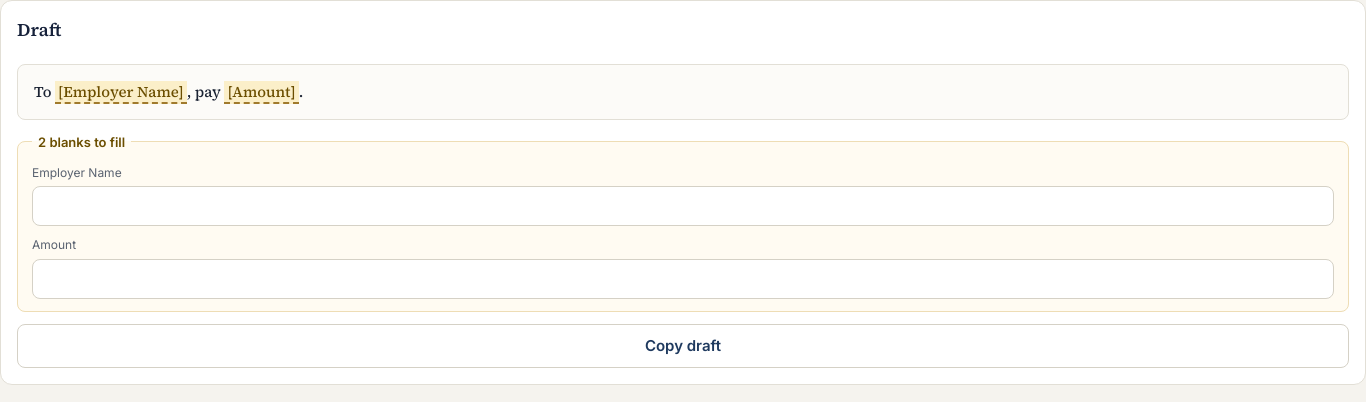
Test: DraftPanel › fills blanks live and counts what is left
Check: the text "2 blanks to fill" is shown, box [32, 132, 131, 152]
Type "ABC Ltd" into the field labelled "Employer Name" at x=683, y=206, box [32, 186, 1334, 226]
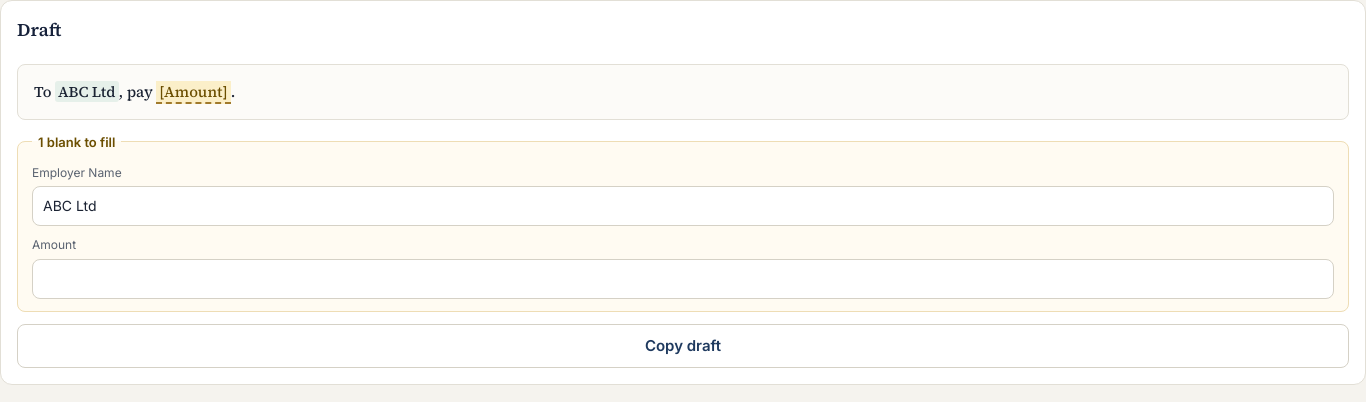
Check: the text "1 blank to fill" is shown, box [32, 132, 121, 152]
